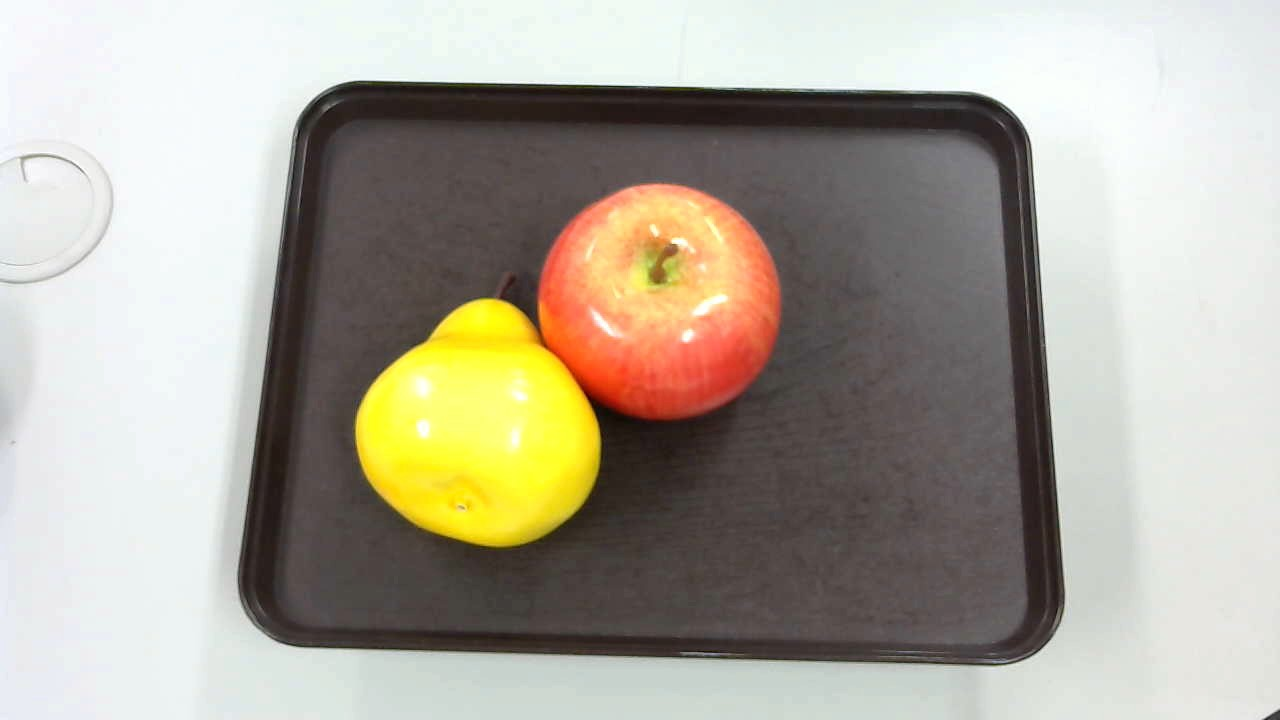red apple: (539, 181, 783, 424)
yellow pear: (355, 271, 604, 554)
